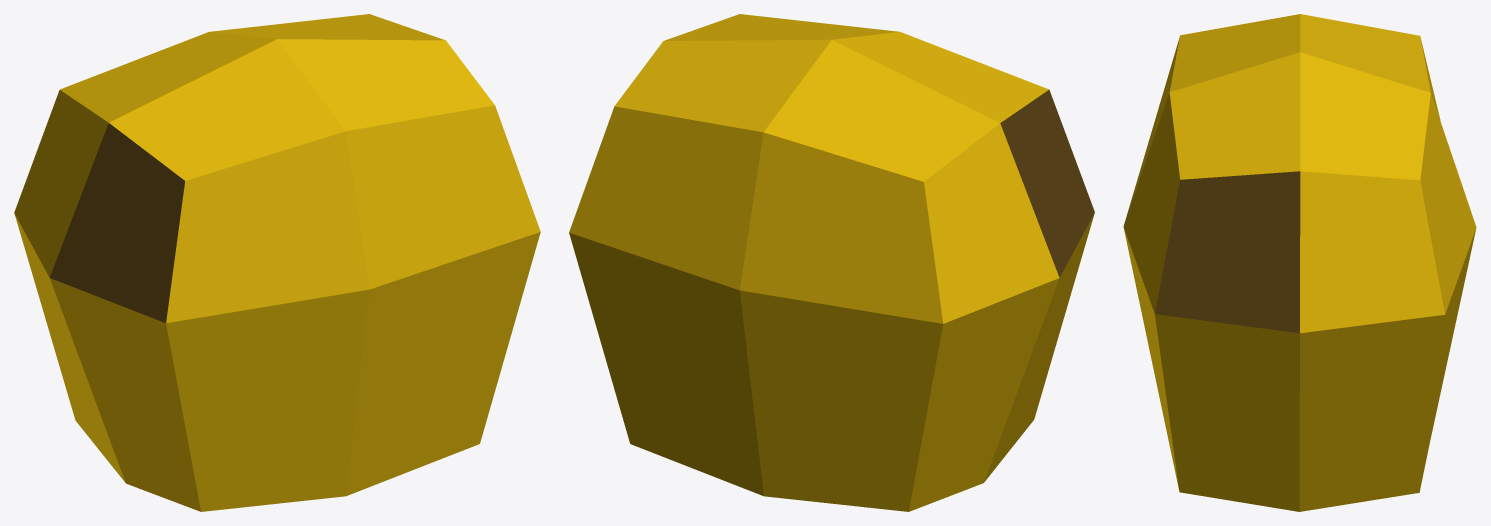
The model's file is head.gltf.
The picture shows the model from 3 angles, left to right: view 1: azimuth 30°, elevation 25°; view 2: azimuth 150°, elevation 25°; view 3: azimuth 270°, elevation 25°; orthographic projection. The views are drawn at different scales.
Parts seen in each view (by area): view 1: head; view 2: head; view 3: head.
Part boxes in pixels (bbox=[...]): head: bbox=[14, 14, 540, 511]; head: bbox=[569, 14, 1094, 511]; head: bbox=[1123, 14, 1476, 511].
Size of the model in its own units: 1.47 by 1.37 by 1.03.
